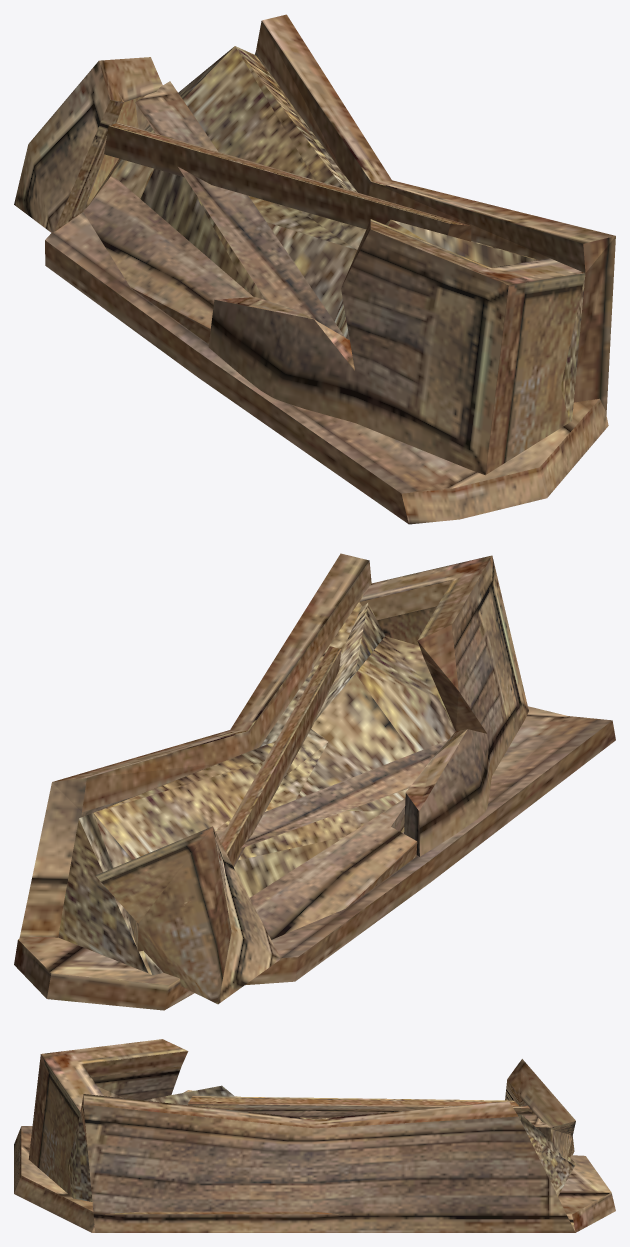
Rendered from WpnCtX1.glb.
3 views of the same model, one above another, from view 1: azimuth 30°, elevation 25°; view 2: azimuth 150°, elevation 25°; view 3: azimuth 270°, elevation 25° (orthographic). The views are drawn at different scales.
Parts seen in each view (by area): view 1: _WpnCtX1; view 2: _WpnCtX1; view 3: _WpnCtX1.
Part boxes in pixels (x1,y1,x2,y2): _WpnCtX1: (14,14,615,524); _WpnCtX1: (14,553,615,1010); _WpnCtX1: (14,1039,615,1232).
Bounding box in the file's own units: 0.6484 × 0.48 × 1.95.
Materials: 1 (1 with a texture image).
